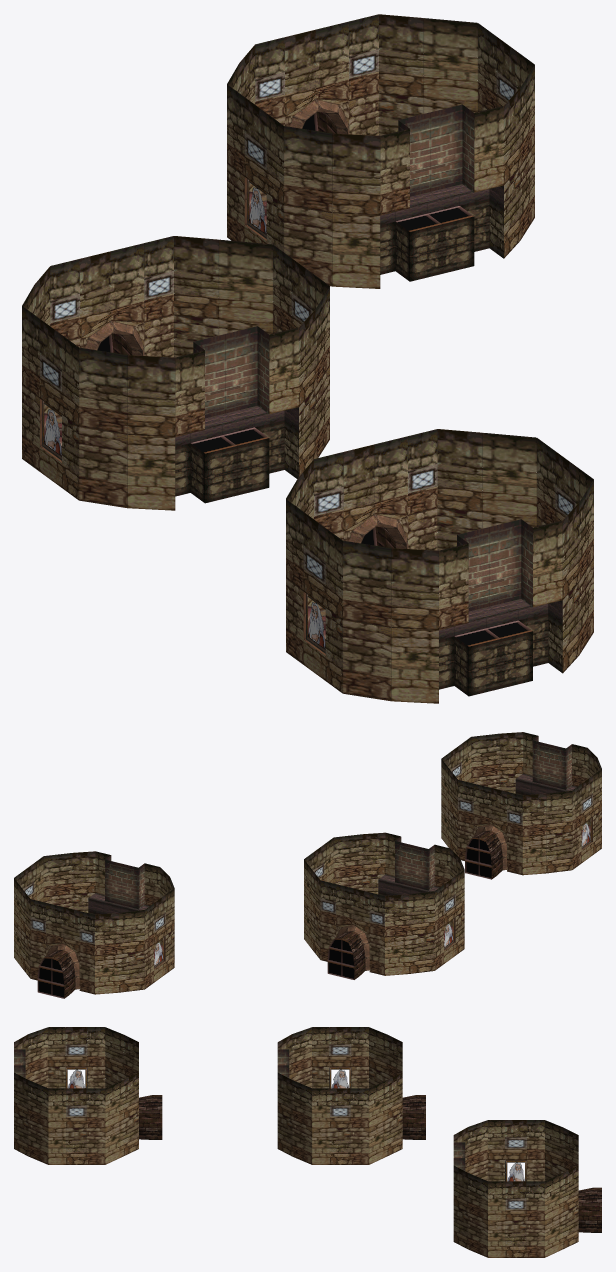
3 renders of one model, top to bottom at view 1: azimuth 30°, elevation 25°; view 2: azimuth 150°, elevation 25°; view 3: azimuth 270°, elevation 25°, orthographic. The views are drawn at different scales.
Parts seen in each view (by area): view 1: T1L2M004_50, T1L2M004_31, T1L2M004_43, T1L2M004_42, T1L2M004_24, T1L2M004_3, T1L2M004_4, T1L2M004_23, T1L2M004_33, T1L2M004_52, T1L2M004_14, T1L2M004_11 (+21 smaller); view 2: T1L2M004_3, T1L2M004_23, T1L2M004_22, T1L2M004_2, T1L2M004_41, T1L2M004_42, T1L2M004_15, T1L2M004_34, T1L2M004_53, T1L2M004_14, T1L2M004_52, T1L2M004_33 (+28 smaller); view 3: T1L2M004_10, T1L2M004_49, T1L2M004_30, T1L2M004_53, T1L2M004_15, T1L2M004_34, T1L2M004_4, T1L2M004_43, T1L2M004_24, T1L2M004_45, T1L2M004_6, T1L2M004_26 (+21 smaller).
Boxes of the visible parts, x1=… form: T1L2M004_50: x1=325, y1=528, x2=391, y2=701; T1L2M004_31: x1=62, y1=335, x2=127, y2=508; T1L2M004_43: x1=437, y1=429, x2=536, y2=550; T1L2M004_42: x1=343, y1=429, x2=437, y2=605; T1L2M004_24: x1=174, y1=236, x2=272, y2=357; T1L2M004_3: x1=285, y1=14, x2=380, y2=193; T1L2M004_4: x1=379, y1=14, x2=477, y2=135; T1L2M004_23: x1=80, y1=236, x2=175, y2=414; T1L2M004_33: x1=190, y1=326, x2=284, y2=502; T1L2M004_52: x1=454, y1=519, x2=548, y2=695; T1L2M004_14: x1=395, y1=104, x2=489, y2=281; T1L2M004_11: x1=266, y1=113, x2=332, y2=286; T1L2M004_3: x1=30, y1=899, x2=79, y2=994; T1L2M004_23: x1=320, y1=880, x2=369, y2=975; T1L2M004_22: x1=369, y1=892, x2=408, y2=975; T1L2M004_2: x1=79, y1=911, x2=118, y2=994; T1L2M004_41: x1=507, y1=791, x2=546, y2=875; T1L2M004_42: x1=458, y1=780, x2=506, y2=875; T1L2M004_15: x1=43, y1=851, x2=95, y2=912; T1L2M004_34: x1=333, y1=832, x2=385, y2=894; T1L2M004_53: x1=471, y1=732, x2=523, y2=793; T1L2M004_14: x1=88, y1=855, x2=144, y2=914; T1L2M004_52: x1=515, y1=736, x2=571, y2=795; T1L2M004_33: x1=378, y1=837, x2=434, y2=895; T1L2M004_10: x1=505, y1=1181, x2=544, y2=1257; T1L2M004_49: x1=66, y1=1088, x2=105, y2=1164; T1L2M004_30: x1=330, y1=1088, x2=368, y2=1164; T1L2M004_53: x1=14, y1=1072, x2=48, y2=1164; T1L2M004_15: x1=453, y1=1165, x2=487, y2=1257; T1L2M004_34: x1=277, y1=1072, x2=311, y2=1164; T1L2M004_4: x1=545, y1=1165, x2=578, y2=1257; T1L2M004_43: x1=105, y1=1072, x2=138, y2=1164; T1L2M004_24: x1=369, y1=1072, x2=402, y2=1164; T1L2M004_45: x1=65, y1=1027, x2=105, y2=1088; T1L2M004_6: x1=505, y1=1120, x2=544, y2=1181; T1L2M004_26: x1=329, y1=1027, x2=368, y2=1088.
Size of the model in its own units: 33.19 by 7.75 by 53.5.
1 material, 1 textured.
